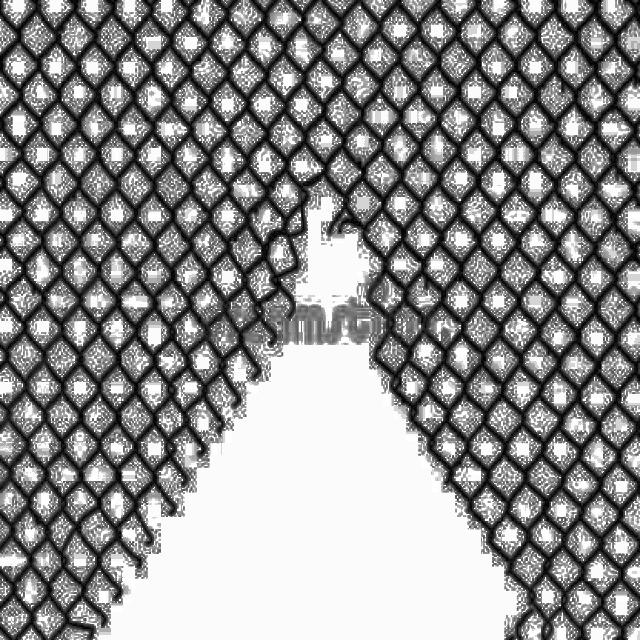anomaly-fence: (78, 206, 529, 640)
